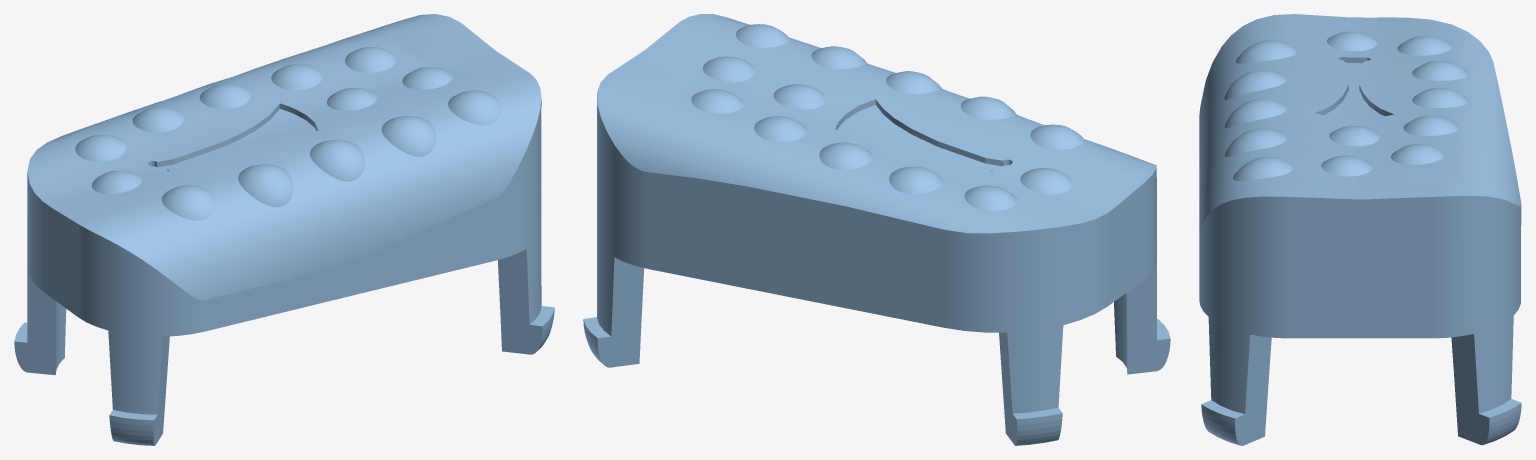
3 renders of one model, left to right at view 1: azimuth 30°, elevation 25°; view 2: azimuth 150°, elevation 25°; view 3: azimuth 270°, elevation 25°, orthographic. The views are drawn at different scales.
Parts seen in each view (by area): view 1: part_0; view 2: part_0; view 3: part_0.
Part boxes in pixels (x1,y1,x2,y2): part_0: (14, 14, 554, 445); part_0: (583, 14, 1170, 445); part_0: (1199, 14, 1521, 445).
Size of the model in its own units: 38.92 by 20.53 by 23.32.
